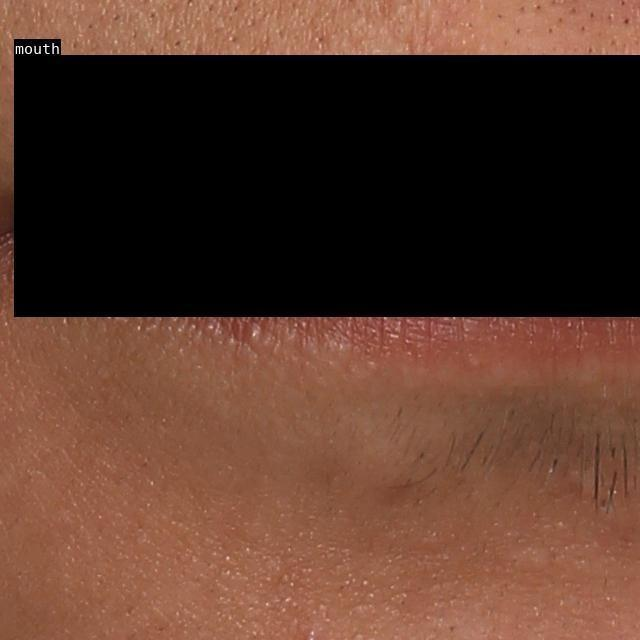hypertrophic_scar: (504, 546, 551, 572)
